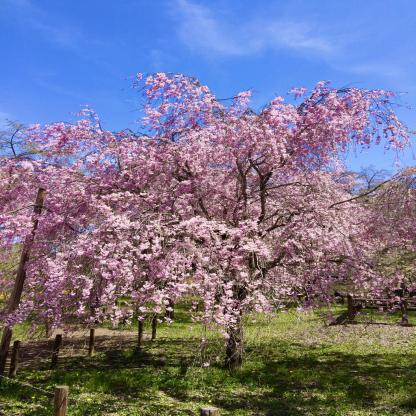ShidareZakura: (0, 70, 416, 337)
